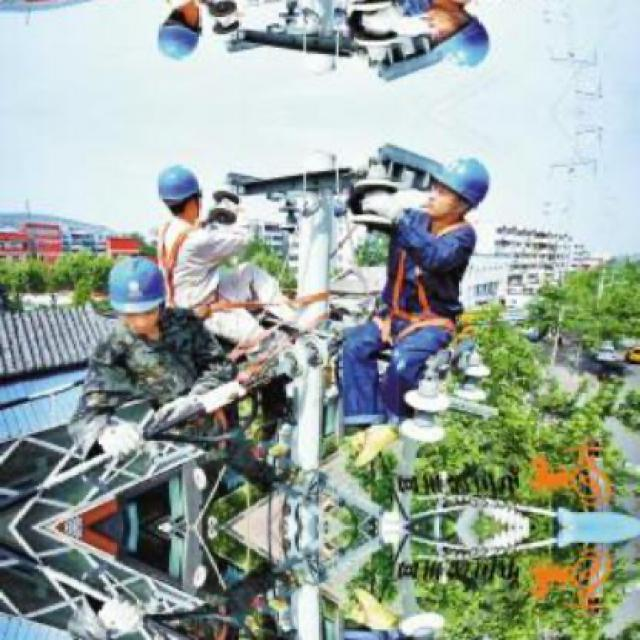helmet: (414, 146, 497, 224), (414, 1, 497, 78), (106, 250, 168, 341), (156, 160, 204, 226), (156, 0, 204, 65)
